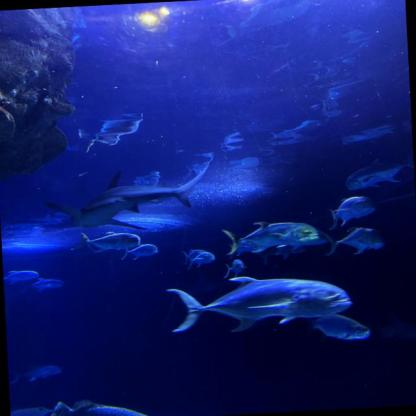fish: (166, 271, 354, 336), (224, 219, 317, 253), (344, 156, 415, 192), (254, 230, 330, 260), (304, 310, 371, 343), (49, 396, 155, 416), (326, 226, 384, 256), (328, 196, 376, 226), (77, 230, 139, 252), (9, 364, 62, 384), (21, 276, 63, 292), (184, 248, 214, 269), (120, 244, 159, 260), (3, 270, 39, 286), (224, 259, 245, 277)
shark: (42, 160, 215, 235), (368, 310, 416, 342)
stingray: (10, 406, 54, 416)
